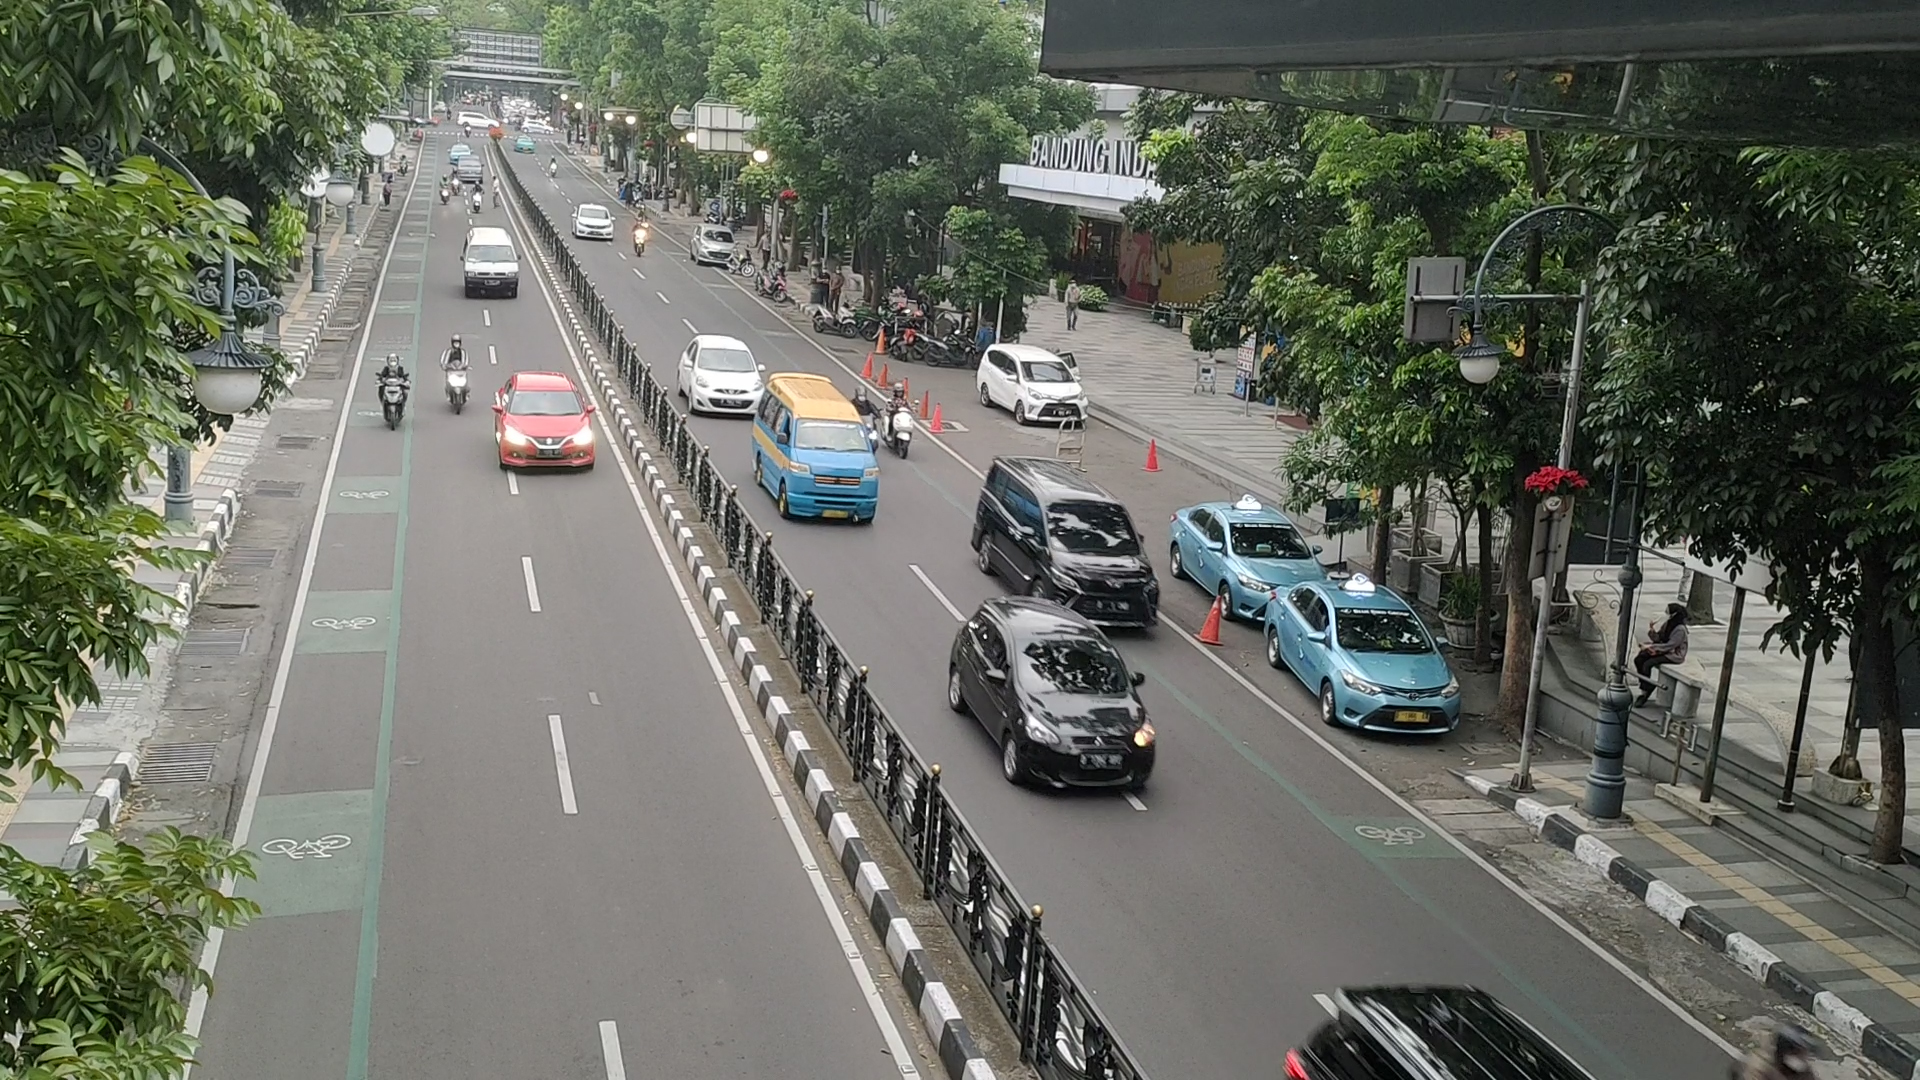mobil: (1001, 632, 1156, 794), (1324, 600, 1465, 744), (1029, 497, 1163, 638), (775, 415, 884, 524), (498, 386, 597, 476), (1013, 353, 1093, 429), (688, 342, 767, 415)
motor: (433, 323, 487, 426), (365, 349, 425, 442), (876, 375, 923, 464)
